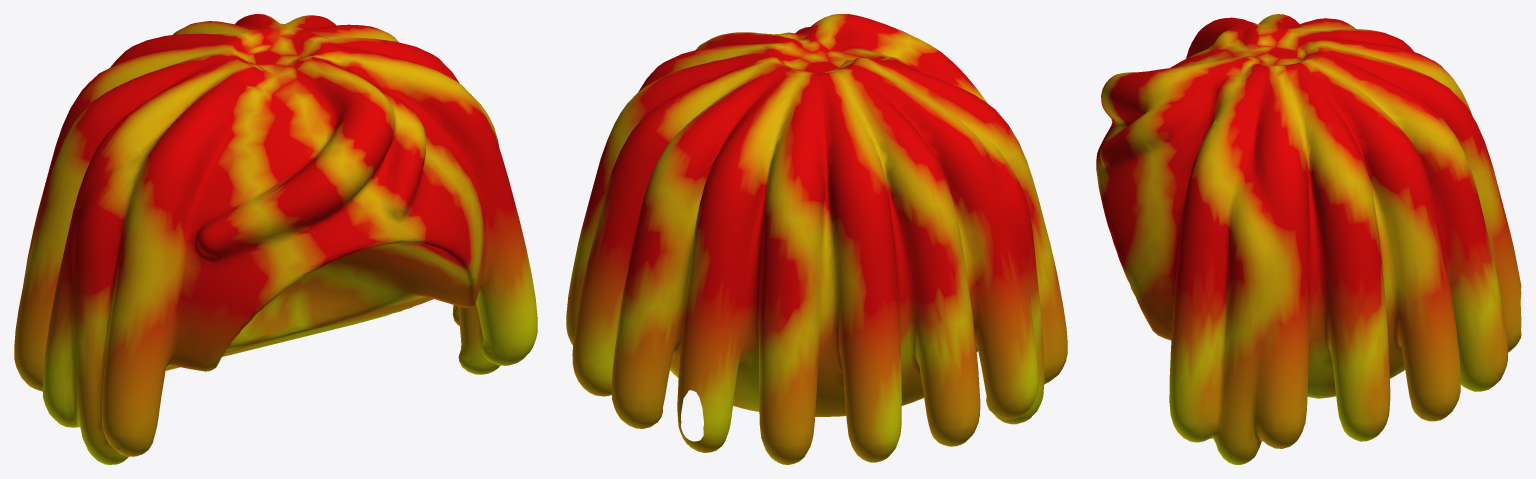
Rendered from bob.glb.
The picture shows the model from 3 angles, left to right: view 1: azimuth 30°, elevation 25°; view 2: azimuth 150°, elevation 25°; view 3: azimuth 270°, elevation 25°; orthographic projection. The views are drawn at different scales.
Parts seen in each view (by area): view 1: part; view 2: part; view 3: part.
Boxes of the visible parts, x1,y1,x2,y2 form: part: (14,14,537,464); part: (566,14,1067,464); part: (1096,14,1521,464).
Bounding box in the file's own units: 2.77 × 2.05 × 2.38.
